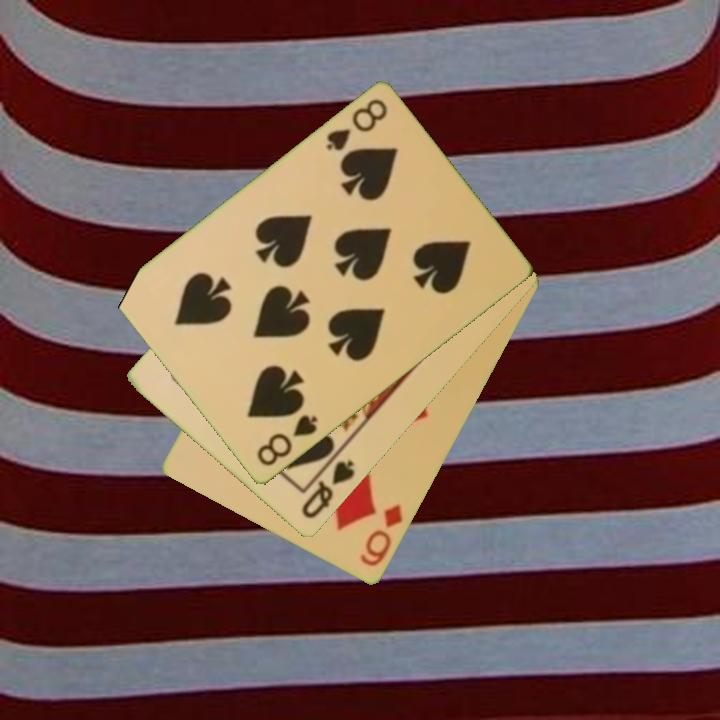6d: (356, 501, 406, 570)
8s: (322, 95, 391, 155), (253, 412, 321, 470)
Qs: (298, 456, 358, 523)
